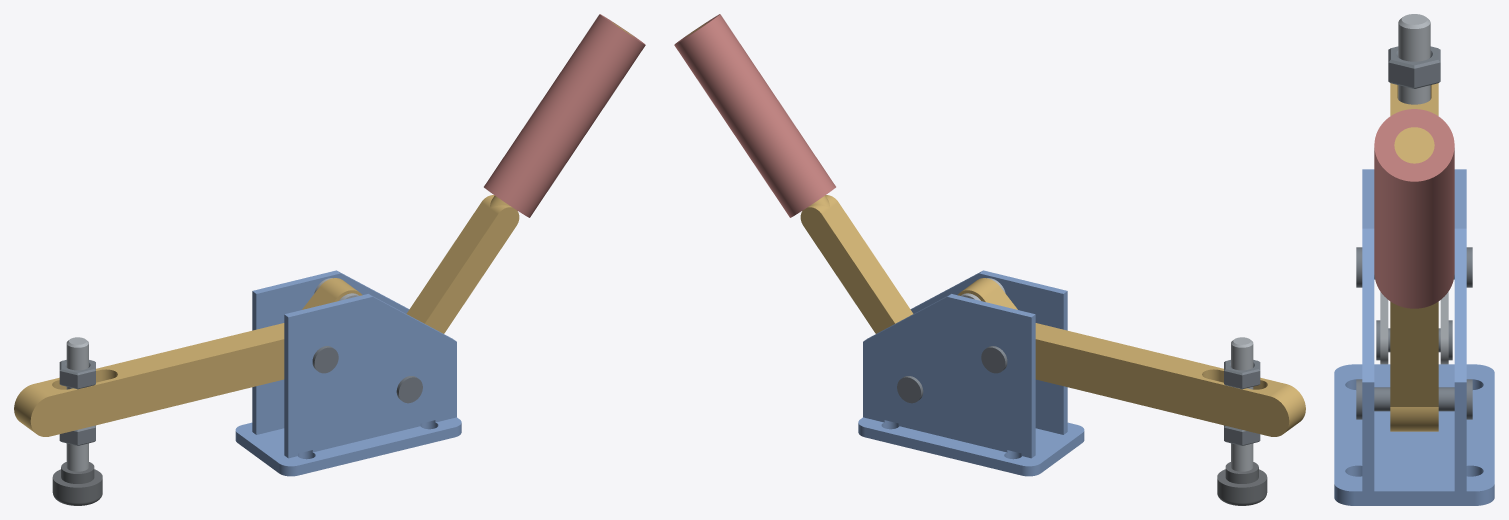
File: toggle_clamp.glb
3 views of the same model, side by side, from view 1: azimuth 30°, elevation 25°; view 2: azimuth 150°, elevation 25°; view 3: azimuth 270°, elevation 25° (orthographic). The views are drawn at different scales.
Parts seen in each view (by area): view 1: base, clamp arm, handle grip, handle, pressure pad, spindle M8 x 66, nut (upper); view 2: base, clamp arm, handle grip, handle, pressure pad, spindle M8 x 66, nut (upper); view 3: base, handle grip, handle, spindle M8 x 66, nut (upper), pivot pin B, clamp arm, link plate 1, link plate 2, pivot pin A, link pin C.
Boxes of the visible parts, x1,y1,x2,y2 form: base: (235,270,461,476); clamp arm: (14,278,362,436); handle grip: (484,14,645,217); handle: (406,22,633,333); pressure pad: (52,462,102,505); spindle M8 x 66: (66,337,88,471); nut (upper): (59,360,95,389); base: (858,270,1084,476); clamp arm: (957,278,1305,436); handle grip: (674,14,835,217); handle: (686,22,913,333); pressure pad: (1217,462,1267,505); spindle M8 x 66: (1231,337,1253,471); nut (upper): (1224,360,1260,389); base: (1334,169,1494,505); handle grip: (1374,109,1454,308); handle: (1390,127,1438,431); spindle M8 x 66: (1398,14,1430,104); nut (upper): (1388,46,1440,88); pivot pin B: (1356,379,1472,419); clamp arm: (1390,83,1438,115); link plate 1: (1440,292,1448,364); link plate 2: (1380,292,1388,364); pivot pin A: (1356,247,1472,287); link pin C: (1376,320,1452,360).
Size of the model in its own units: 257 by 141 by 40.
